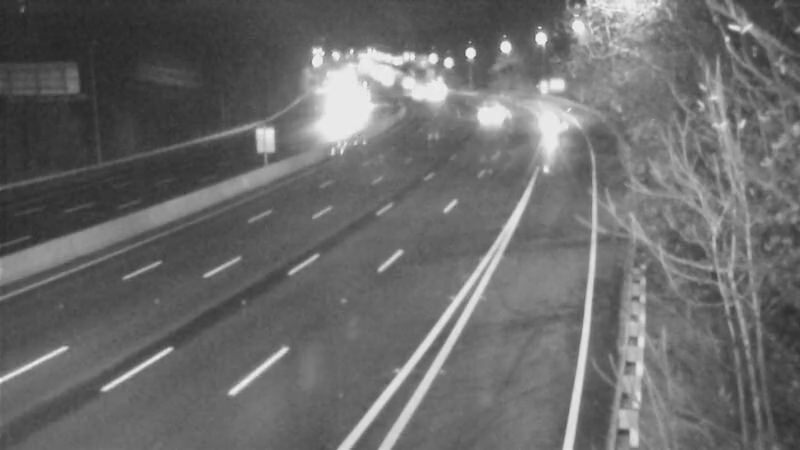vehicle: (391, 68, 441, 118), (409, 71, 459, 121), (462, 86, 512, 136), (527, 97, 577, 147)
